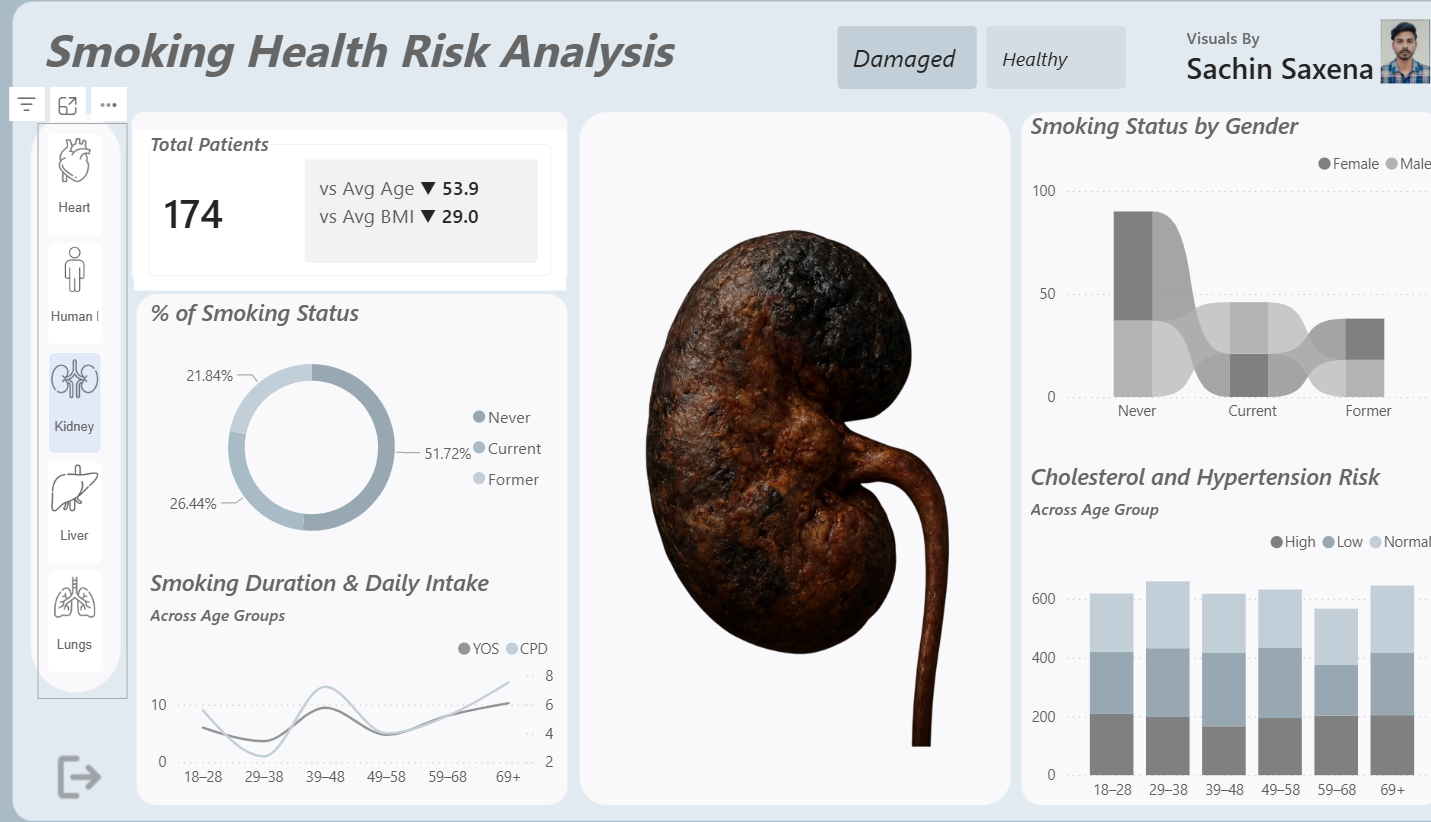

The page's visual inventory and layout, read from the dashboard file:
{"tool":"powerbi","page":{"name":"Page 1","canvas":[1280,720],"ordinal":0},"visuals":[{"type":"cardVisual","fields":{"Data":["CountNonNull(health_dataset.Patient_ID)"]},"box":[134.8,118.1,366.4,143.8],"z":0},{"type":"textbox","box":[148.4,118.1,249.8,57.5],"z":1000},{"type":"advancedSlicerVisual","fields":{"Values":["condition.Organ_Condition"]},"box":[714.7,33.3,249.8,62.1],"z":2000},{"type":"image","box":[513.3,118.1,346.8,557.2],"z":3000},{"type":"ChicletSlicer1448559807354","fields":{"Category":["Organs.Organ"],"Image":["Organs.Icon_URL"]},"box":[60.6,118.1,74.2,475.5],"z":4000},{"type":"donutChart","title":"% of Smoking Status","fields":{"Category":["health_dataset.Smoking_Status"],"Y":["CountNonNull(health_dataset.Smoking_Status)"]},"box":[148.4,262,342.2,222.6],"z":5000},{"type":"lineChart","title":"Smoking Duration & Daily Intake","fields":{"Category":["health_dataset.Age Group"],"Y":["Avg(health_dataset.Years_of_Smoking)"],"Y2":["Avg(health_dataset.Cigarettes_Per_Day)"]},"box":[148.4,484.5,342.2,190.8],"z":6000},{"type":"ribbonChart","title":"Smoking Status by Gender","fields":{"Category":["health_dataset.Smoking_Status"],"Y":["CountNonNull(health_dataset.Patient_ID)"],"Series":["health_dataset.Gender"]},"box":[873.7,107.5,345.2,266.5],"z":7000},{"type":"columnChart","title":"Cholesterol and Hypertension Risk","fields":{"Category":["health_dataset.Age Group"],"Y":["Avg(health_dataset.Cholesterol_Level)"],"Series":["health_dataset.BP_Risk"]},"box":[873.7,396.7,345.2,289.2],"z":8000},{"type":"textbox","box":[60.6,27.3,579.9,80.3],"z":9000},{"type":"textbox","box":[1002.4,33.3,277.1,307.4],"z":10000},{"type":"image","box":[1141.7,33.3,90.9,53],"z":11000}]}

Visuals, with their boxes on the page's 1280x720 design canvas (x1, y1, x2, y2). These are canvas units, not pixel positions in the 1431x822 screenshot, which may show the page scaled, cropped or inside an application window:
cardVisual - CountNonNull(health_dataset.Patient_ID): bbox(135, 118, 501, 262)
textbox: bbox(148, 118, 398, 176)
advancedSlicerVisual - condition.Organ_Condition: bbox(715, 33, 964, 95)
image: bbox(513, 118, 860, 675)
ChicletSlicer1448559807354 - Organs.Organ x Organs.Icon_URL: bbox(61, 118, 135, 594)
"% of Smoking Status" donutChart: bbox(148, 262, 491, 485)
"Smoking Duration & Daily Intake" lineChart: bbox(148, 484, 491, 675)
"Smoking Status by Gender" ribbonChart: bbox(874, 108, 1219, 374)
"Cholesterol and Hypertension Risk" columnChart: bbox(874, 397, 1219, 686)
textbox: bbox(61, 27, 640, 108)
textbox: bbox(1002, 33, 1280, 341)
image: bbox(1142, 33, 1233, 86)
